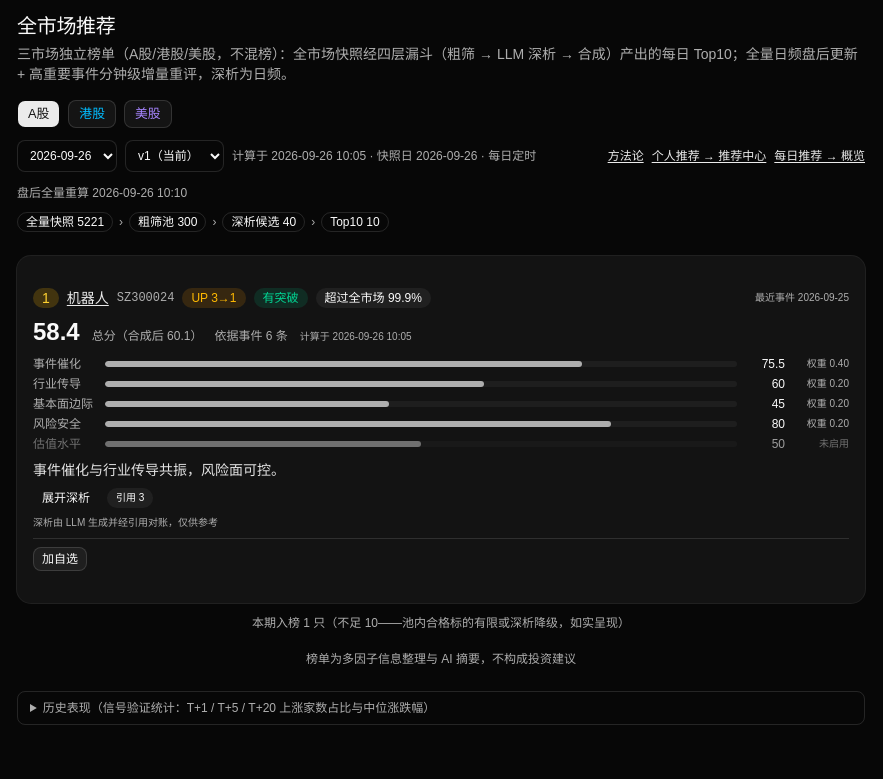
Test: MarketTop 全市场推荐页（T184，#/market-top 第 20 页） › FULL 卡展开深析：论点 + 亮点/风险 + 引用计数徽章 + 引用 chip 下钻（EVENT → 事件流 focus / NEWS → 资讯库）
expect the element with test id "market-top-card-SZ300024" is shown: met, box left=17, top=256, right=865, bottom=603
Click the button with test id "market-top-dive-toggle".
click(66, 498)  # box left=33, top=486, right=99, bottom=510
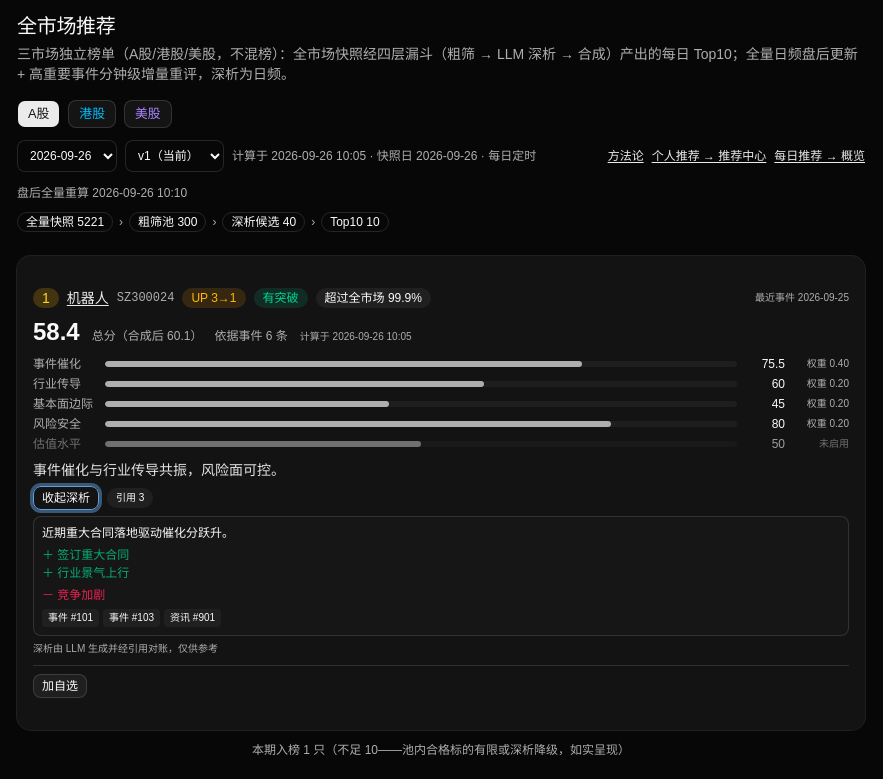
expect the text with test id "market-top-dive-thesis" shows "重大合同落地": met, box left=42, top=526, right=234, bottom=540
expect the list with test id "market-top-dive-highlights" shows "签订重大合同": met, box left=57, top=548, right=129, bottom=562
expect the list with test id "market-top-dive-risks" shows "竞争加剧": met, box left=57, top=588, right=105, bottom=602
